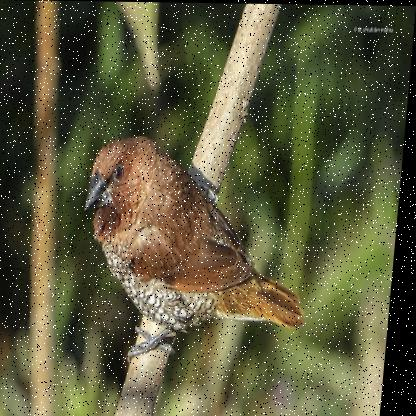Burung: (77, 133, 323, 361)
